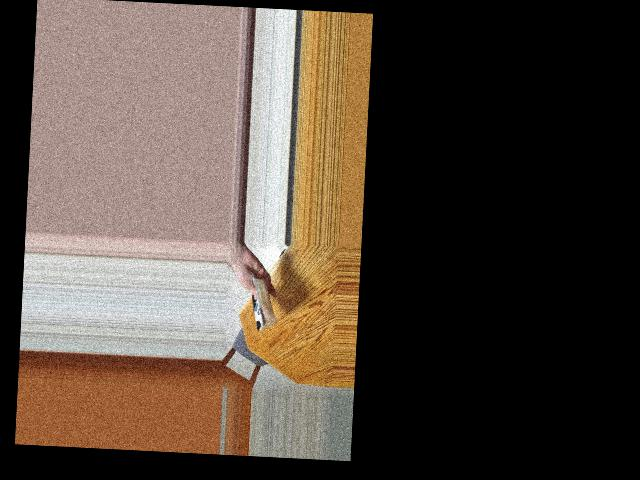cheese: (237, 276, 283, 330)
